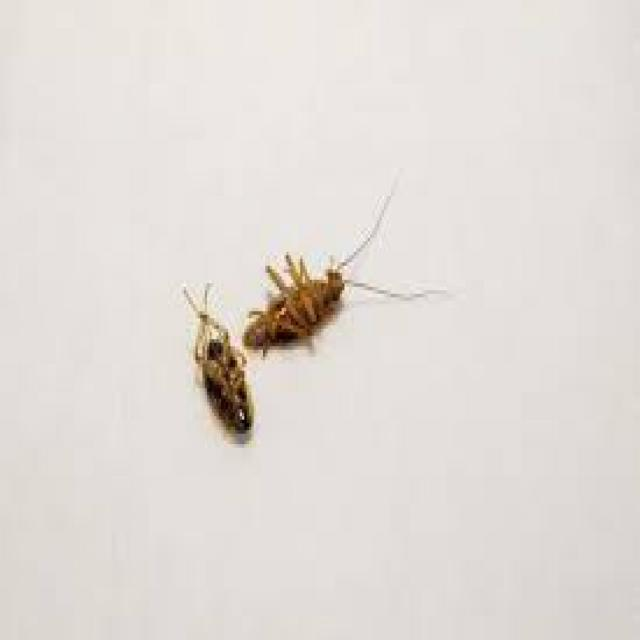Cockroach: (238, 171, 434, 376), (169, 262, 266, 458)
